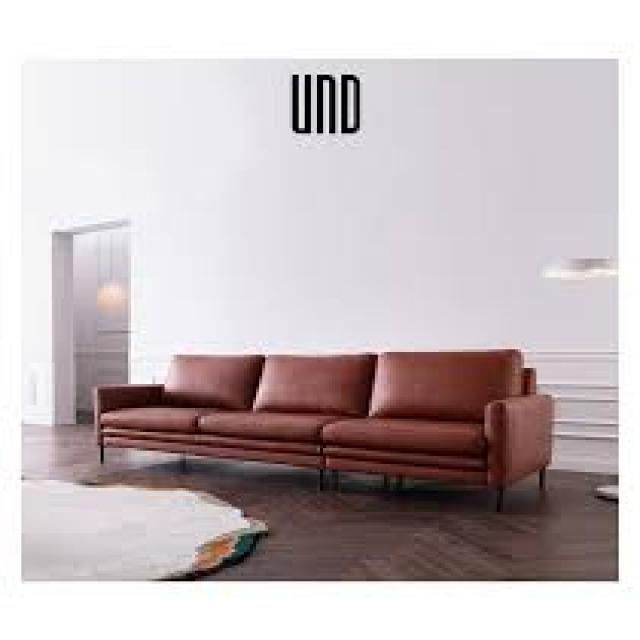Sofa: (55, 322, 586, 512)
